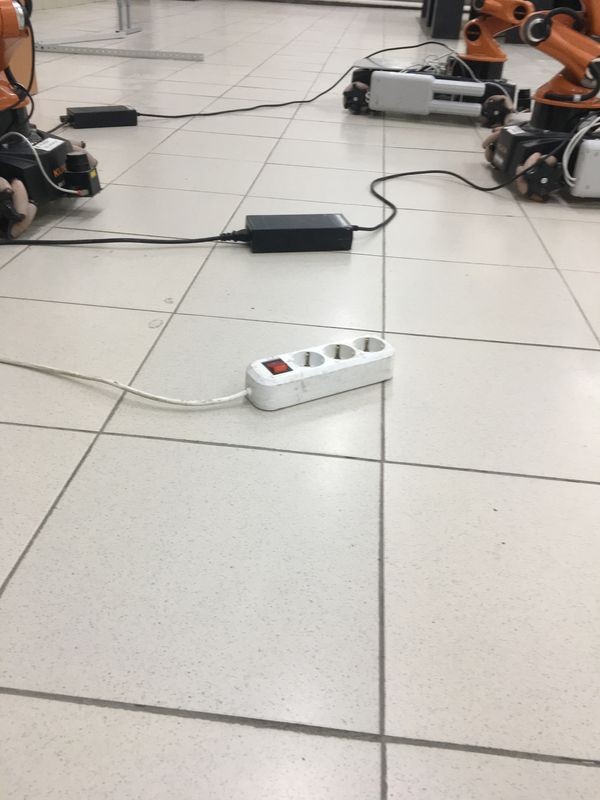socket: (239, 332, 400, 410)
